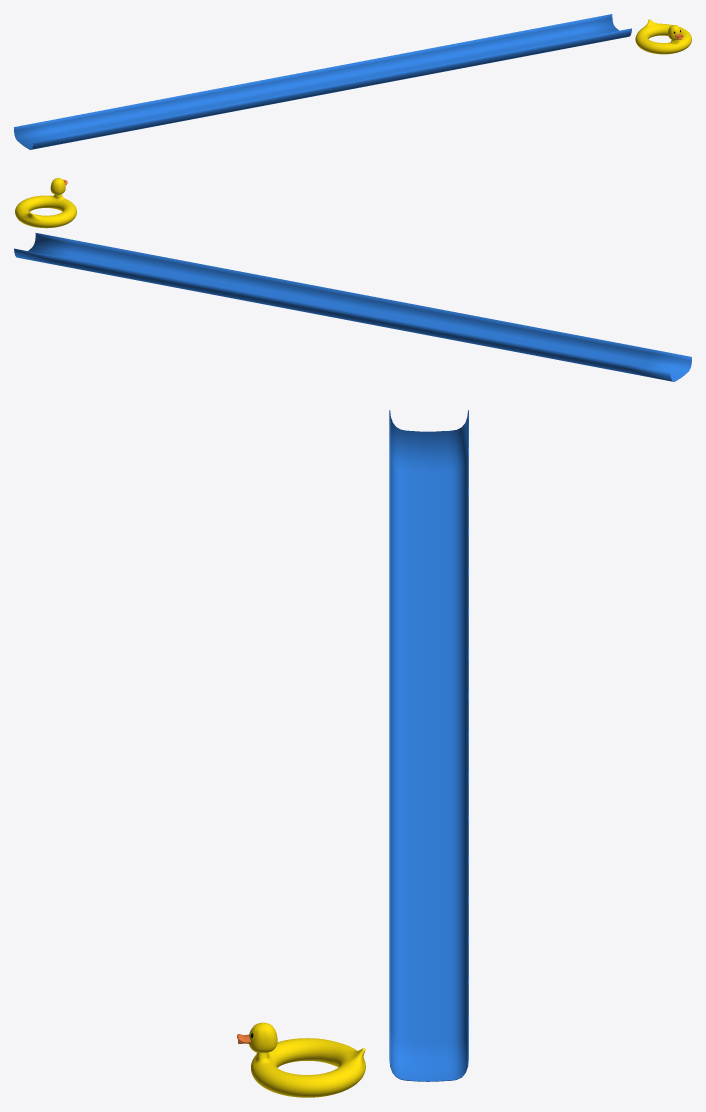
File: assets_iolBeBack.fbx
3 views of the same model, one above another, from view 1: azimuth 30°, elevation 25°; view 2: azimuth 150°, elevation 25°; view 3: azimuth 270°, elevation 25° (orthographic). The views are drawn at different scales.
Visible parts, largest first — view 1: Cylinder, Torus.001; view 2: Cylinder, Torus.001; view 3: Cylinder, Torus.001.
Boxes of the visible parts, <box> form: Cylinder: <box>14,14,631,149</box>; Torus.001: <box>635,19,691,54</box>; Cylinder: <box>14,233,691,381</box>; Torus.001: <box>15,178,76,228</box>; Cylinder: <box>389,410,468,1081</box>; Torus.001: <box>249,1022,365,1097</box>.
Size of the model in its own units: 3685 by 245 by 583.
